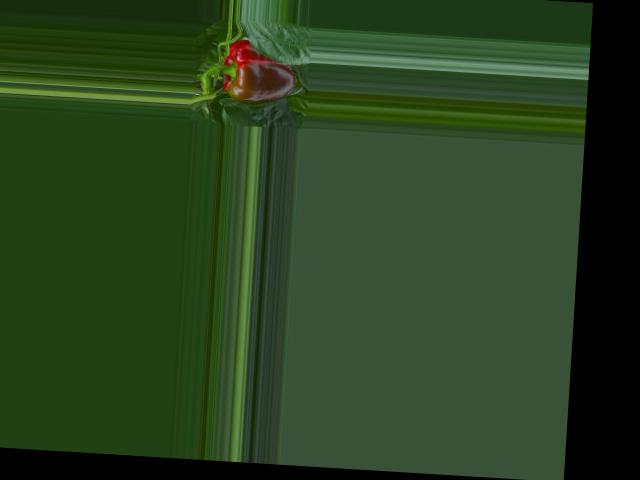bell_pepper: (211, 35, 302, 114)
